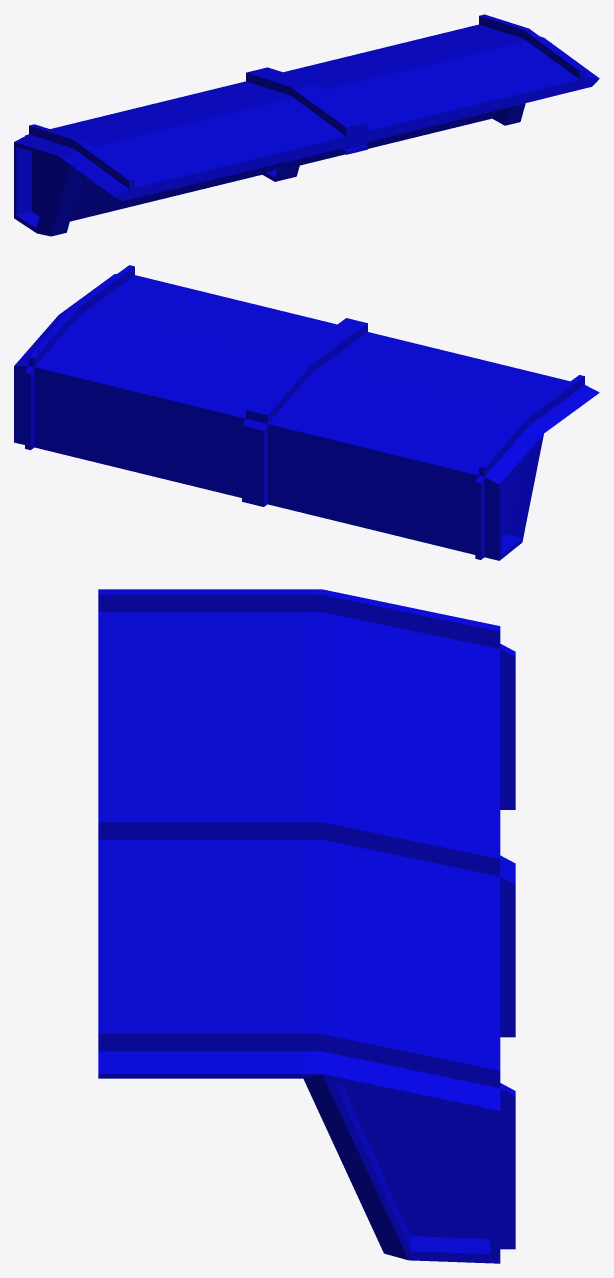
The model's file is Mdl_Vagon_techo_ventanal.fbx.
The picture shows the model from 3 angles, top to bottom: view 1: azimuth 30°, elevation 25°; view 2: azimuth 150°, elevation 25°; view 3: azimuth 270°, elevation 25°; orthographic projection. The views are drawn at different scales.
Visible parts, largest first — view 1: Mdl_Vagon_techo_ventanal; view 2: Mdl_Vagon_techo_ventanal; view 3: Mdl_Vagon_techo_ventanal.
Part boxes in pixels (x1,y1,x2,y2): Mdl_Vagon_techo_ventanal: (14,14,599,236); Mdl_Vagon_techo_ventanal: (14,265,599,560); Mdl_Vagon_techo_ventanal: (98,589,515,1263).
Bounding box in the file's own units: 59.53 × 12.71 × 22.14.
